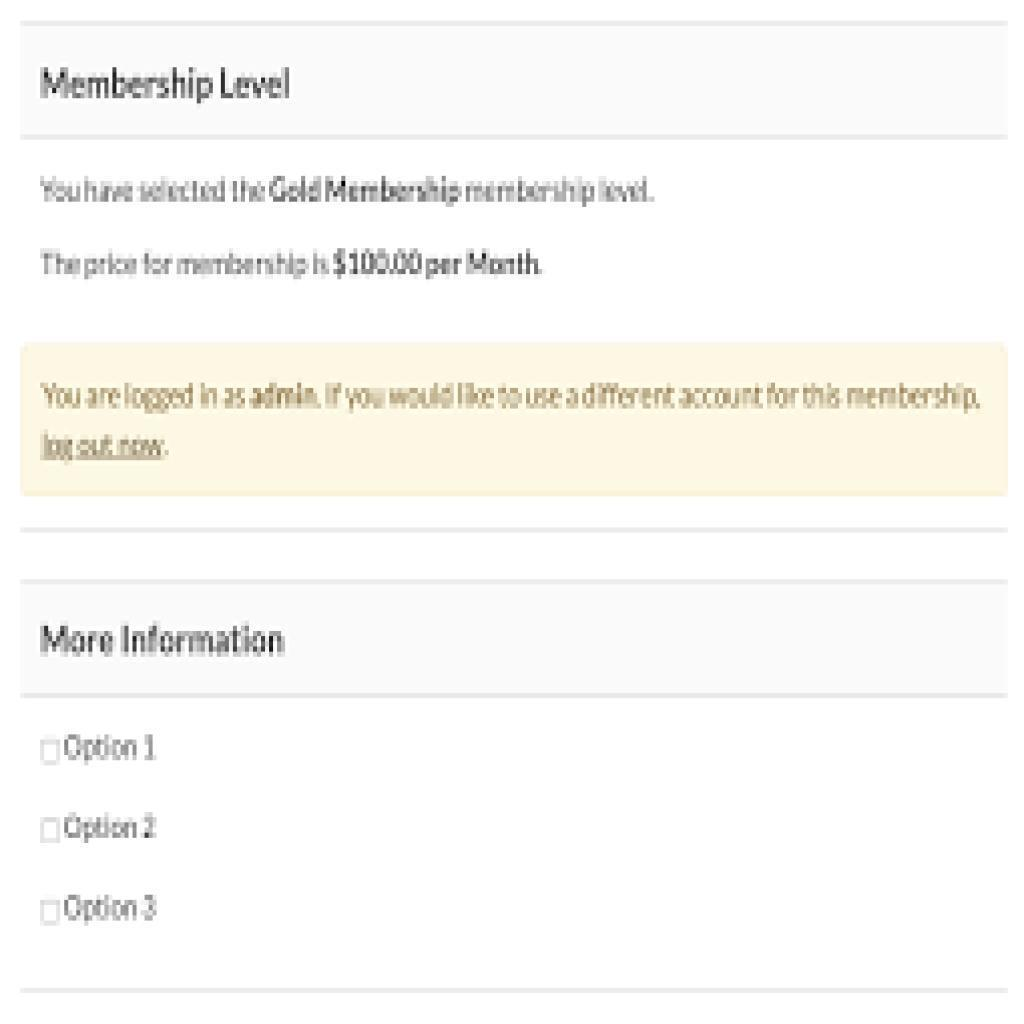checkbox: (39, 737, 64, 770), (41, 899, 64, 928), (40, 818, 62, 846)
label: (39, 62, 295, 108), (41, 623, 287, 660), (63, 892, 160, 925), (60, 811, 159, 843), (65, 731, 159, 763)
